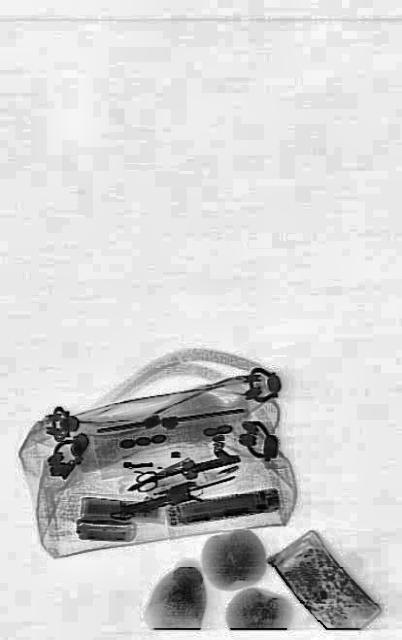Scissors: (134, 455, 198, 493)
